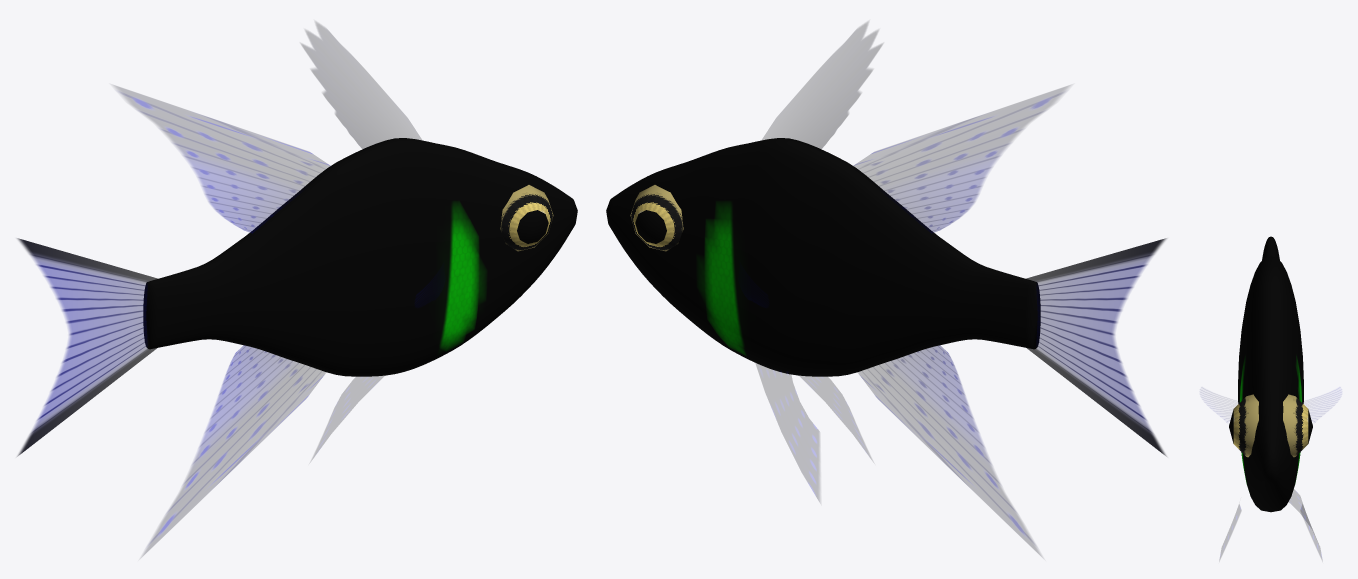
The model's file is banggai.glb.
3 views of the same model, side by side, from view 1: azimuth 30°, elevation 25°; view 2: azimuth 150°, elevation 25°; view 3: azimuth 270°, elevation 25° (orthographic). The views are drawn at different scales.
Visible parts, largest first — view 1: Body, FinCaudal, FinDorsal2, FinAnal, FinDorsal, EyeR, FinPelvicL; view 2: Body, FinCaudal, FinDorsal2, FinAnal, FinDorsal, FinPelvicL, EyeL, FinPelvicR; view 3: Body, EyeL, EyeR, FinPelvicL, FinPelvicR.
Boxes of the visible parts, box(x1,y1,x2,y2) form: Body: box(143, 138, 577, 376); FinCaudal: box(17, 238, 158, 456); FinDorsal2: box(114, 85, 332, 233); FinAnal: box(142, 345, 325, 556); FinDorsal: box(301, 22, 421, 150); EyeR: box(500, 185, 553, 251); FinPelvicL: box(311, 376, 383, 460); Body: box(606, 138, 1040, 376); FinCaudal: box(1025, 238, 1166, 456); FinDorsal2: box(851, 85, 1069, 233); FinAnal: box(858, 345, 1041, 556); FinDorsal: box(762, 22, 882, 150); FinPelvicL: box(755, 362, 819, 501); EyeL: box(630, 185, 683, 251); FinPelvicR: box(800, 376, 872, 460); Body: box(1238, 236, 1303, 512); EyeL: box(1283, 394, 1312, 457); EyeR: box(1229, 394, 1258, 457); FinPelvicL: box(1289, 489, 1321, 558); FinPelvicR: box(1220, 504, 1241, 558).
Size of the model in its own units: 1 by 0.859 by 0.2323.
4 materials, 3 textured.
